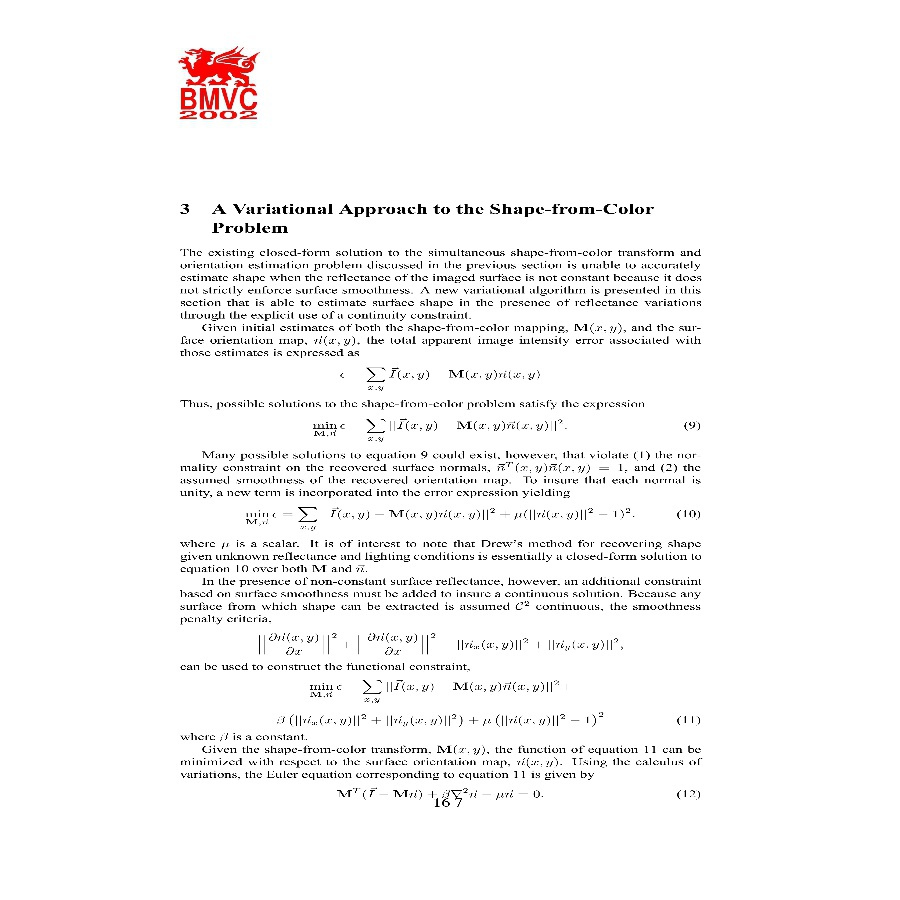eq: (241, 503, 633, 533), (254, 628, 622, 657), (307, 675, 566, 703), (310, 414, 562, 441), (274, 710, 607, 730), (362, 361, 547, 392), (332, 784, 543, 800)
